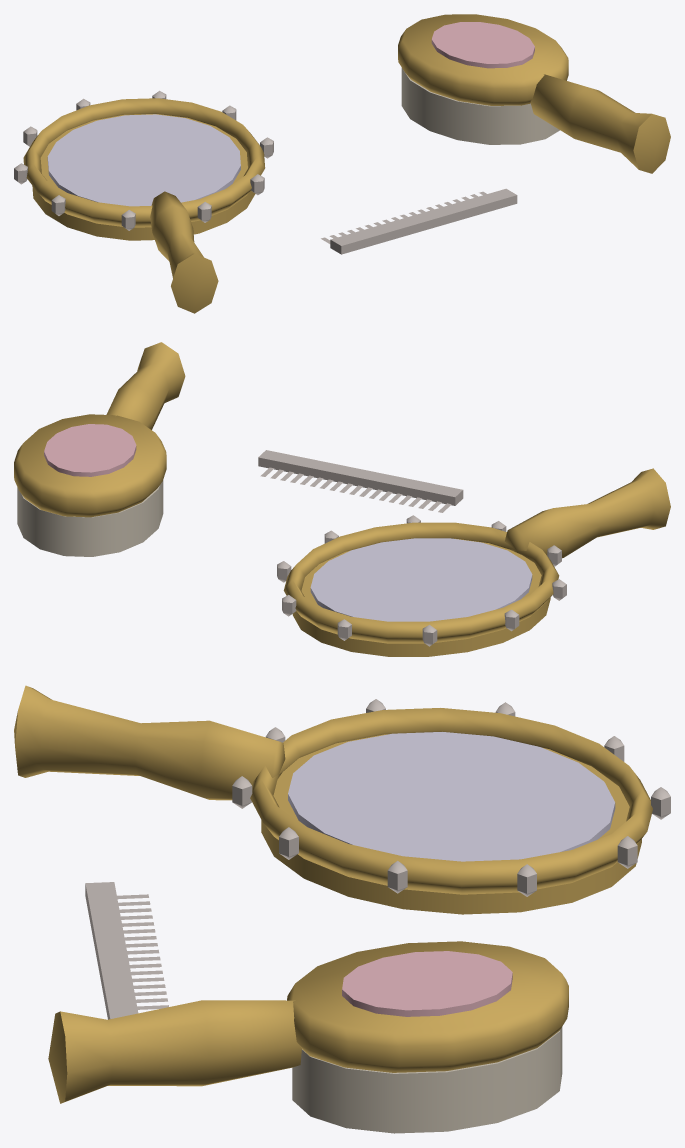
File: hand_mirror_brush.glb
3 renders of one model, top to bottom at view 1: azimuth 30°, elevation 25°; view 2: azimuth 150°, elevation 25°; view 3: azimuth 270°, elevation 25°, orthographic. The views are drawn at different scales.
Parts seen in each view (by area): view 1: hand_mirror_brush; view 2: hand_mirror_brush; view 3: hand_mirror_brush.
Boxes of the visible parts, box(x1,y1,x2,y2) form: hand_mirror_brush: box(14, 14, 670, 313); hand_mirror_brush: box(14, 342, 670, 656); hand_mirror_brush: box(14, 685, 670, 1133).
Size of what is drawn, in the model's own units: 0.35 by 0.05 by 0.25.
